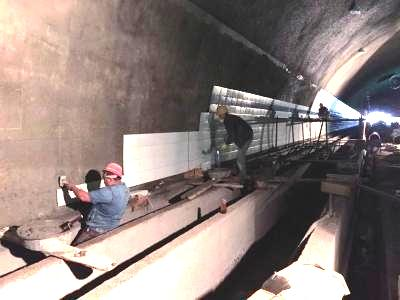helmet: (102, 162, 123, 187), (215, 105, 228, 120)
